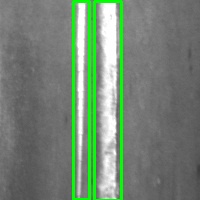scratches: (94, 1, 121, 200), (73, 1, 89, 199)
